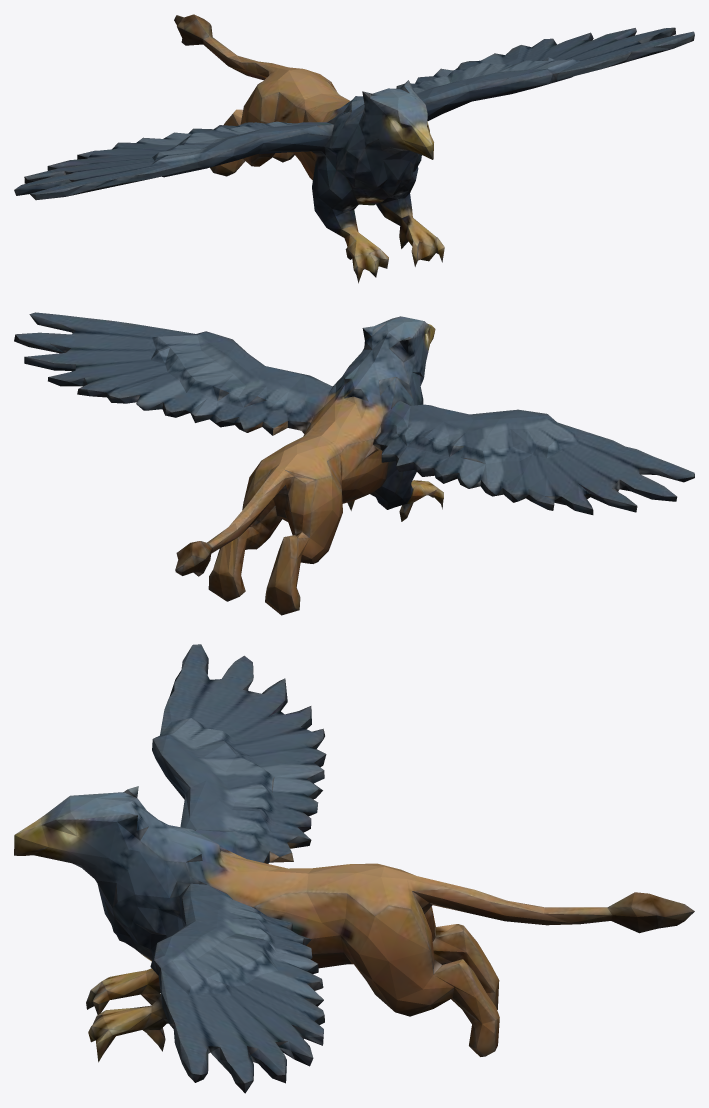
Rendered from foe_griffin.glb.
3 renders of one model, top to bottom at view 1: azimuth 30°, elevation 25°; view 2: azimuth 150°, elevation 25°; view 3: azimuth 270°, elevation 25°, orthographic. The views are drawn at different scales.
Parts seen in each view (by area): view 1: tripo_node_301ecc17-6aed-432c-85ad-0a6e838bb222.001; view 2: tripo_node_301ecc17-6aed-432c-85ad-0a6e838bb222.001; view 3: tripo_node_301ecc17-6aed-432c-85ad-0a6e838bb222.001.
Boxes of the visible parts, x1,y1,x2,y2 form: tripo_node_301ecc17-6aed-432c-85ad-0a6e838bb222.001: (14, 14, 694, 283); tripo_node_301ecc17-6aed-432c-85ad-0a6e838bb222.001: (14, 312, 694, 615); tripo_node_301ecc17-6aed-432c-85ad-0a6e838bb222.001: (14, 644, 694, 1093).
Bounding box in the file's own units: 0.9933 × 0.2546 × 0.663.
1 material, 1 textured.
